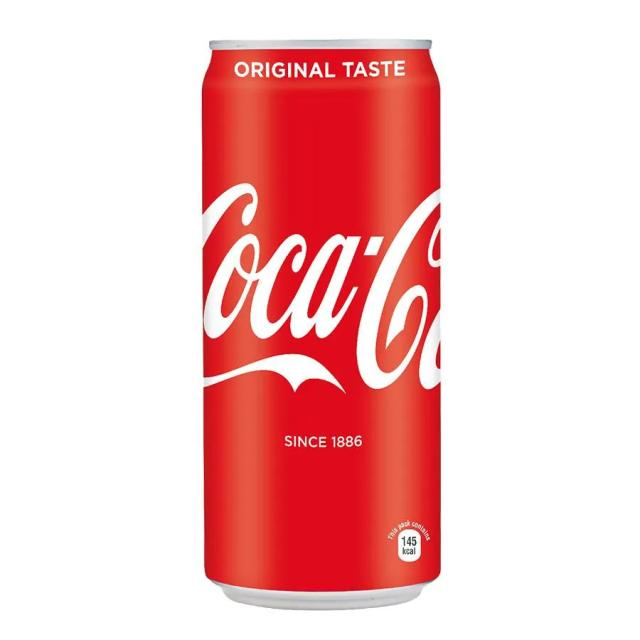cocacola: (203, 40, 439, 608)
